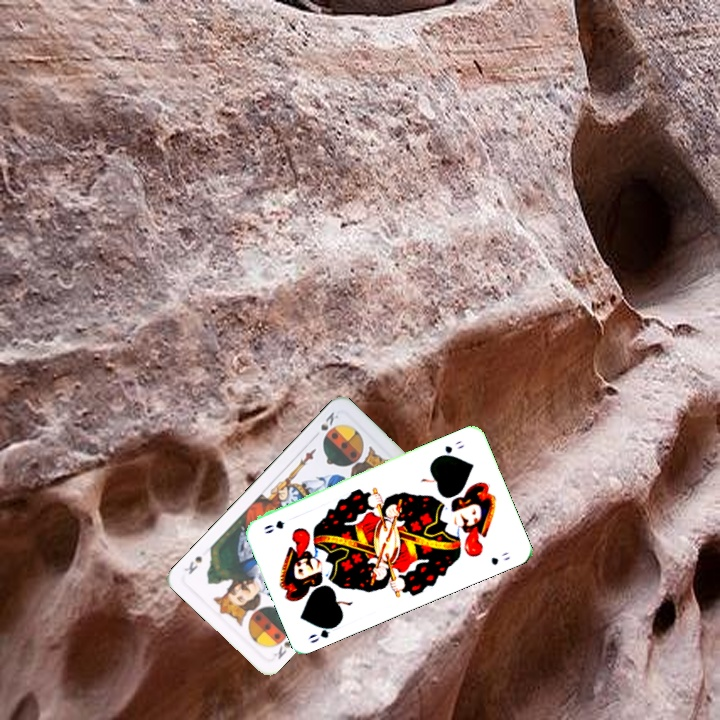GO: (304, 619, 342, 646), (433, 436, 467, 460)
SK: (317, 408, 341, 433), (270, 637, 294, 662)
